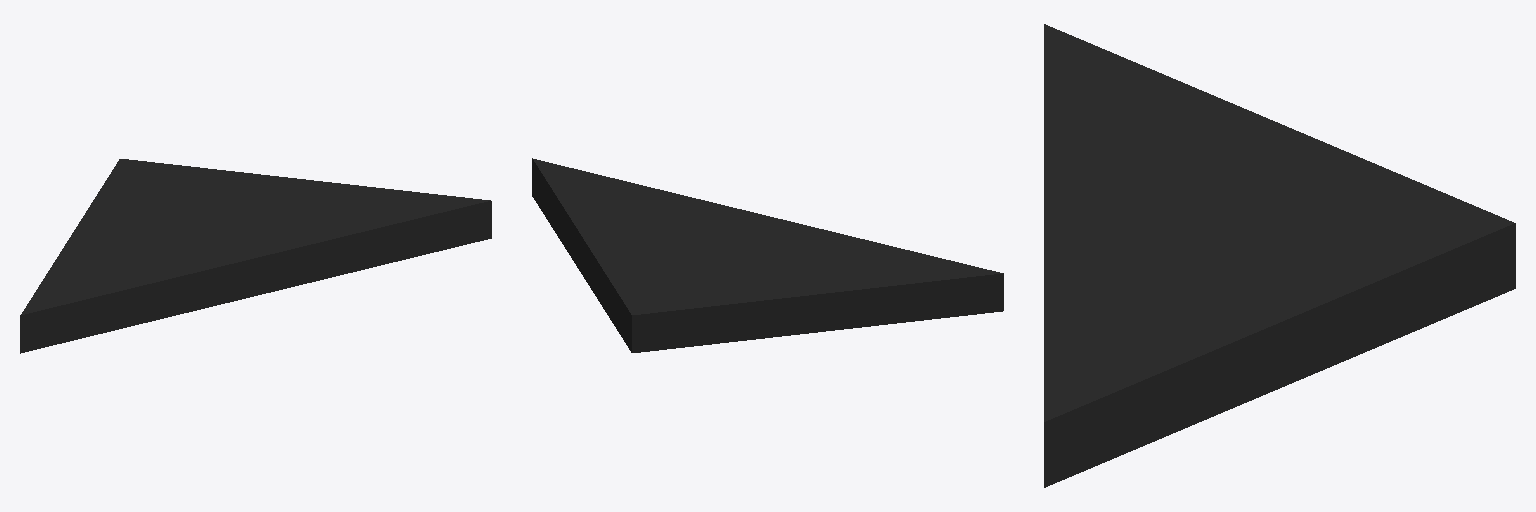
robot.urdf — Triangle2:
<?xml version="1.0" ?>
<robot name="Triangle2">

    <link name="base">
        <contact>
            <lateral_friction value="1.0"/>
            <spinning_friction value="1.0"/>
            <restitution value="0.5"/>
        </contact>
        <inertial>
            <origin rpy="0 0 0" xyz="0 0 0"/>
            <mass value="999999"/>
            <inertia ixx="0.2125" ixy="-0.005" ixz="0.0225" iyy="0.205" iyz="0.045" izz="0.0125"/>
        </inertial>
        <visual>
            <geometry>
                <mesh filename="triangle2.dae" scale="10 10 10"/>
            </geometry>
            <origin rpy="0 0 0" xyz="0 0 0"/>
            <material name="black">
                <color rgba="0.2 0.2 0.2 1"/>
            </material>
        </visual>
        <collision>
            <geometry>
                 <mesh filename="triangle2.dae" scale="10 10 50"/>
            </geometry>
            <origin rpy="0 0 0" xyz="0 0 0"/>
        </collision>
	</link>

</robot>

--- What the picture shows (computed from the rendered views, not written in the file) ---
The picture shows the robot from 3 angles, left to right: view 1: azimuth 30°, elevation 25°; view 2: azimuth 150°, elevation 25°; view 3: azimuth 270°, elevation 25°; orthographic projection.
Model Triangle2 with 1 links and 0 joints (none), rooted at base, posed all joints at 0.
Visible links, largest first — view 1: base; view 2: base; view 3: base.
Link boxes in pixels (x1,y1,x2,y2): base: [20, 159, 491, 353]; base: [532, 158, 1003, 352]; base: [1044, 24, 1515, 487].
Size in the robot's own frame: 0.7778 by 0.3889 by 0.06 metres.
1 mesh visuals loaded from 1 distinct referenced files (1 Collada DAE).